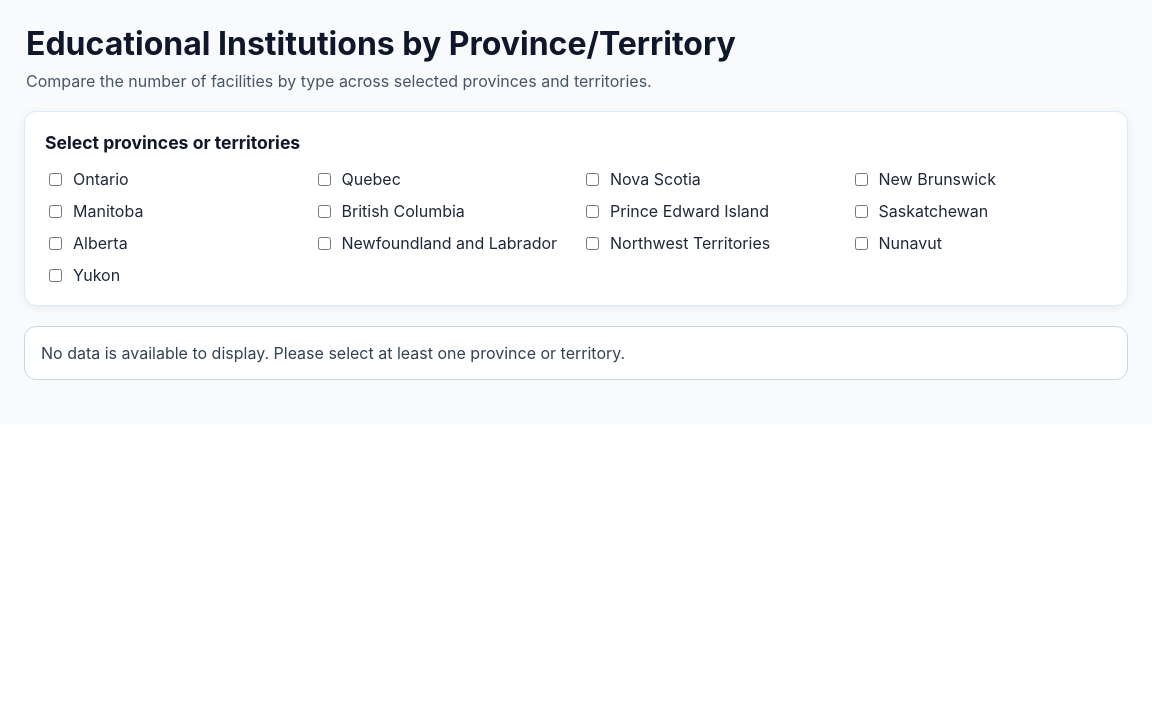
Test case: AC6: no provinces selected shows a no-data message › no-data message disappears once a province is selected
Expected: the text "No data is available to display" is shown, [41,343,625,363]
Click the checkbox labelled "Ontario" at (56, 179), box [49,172,62,186]
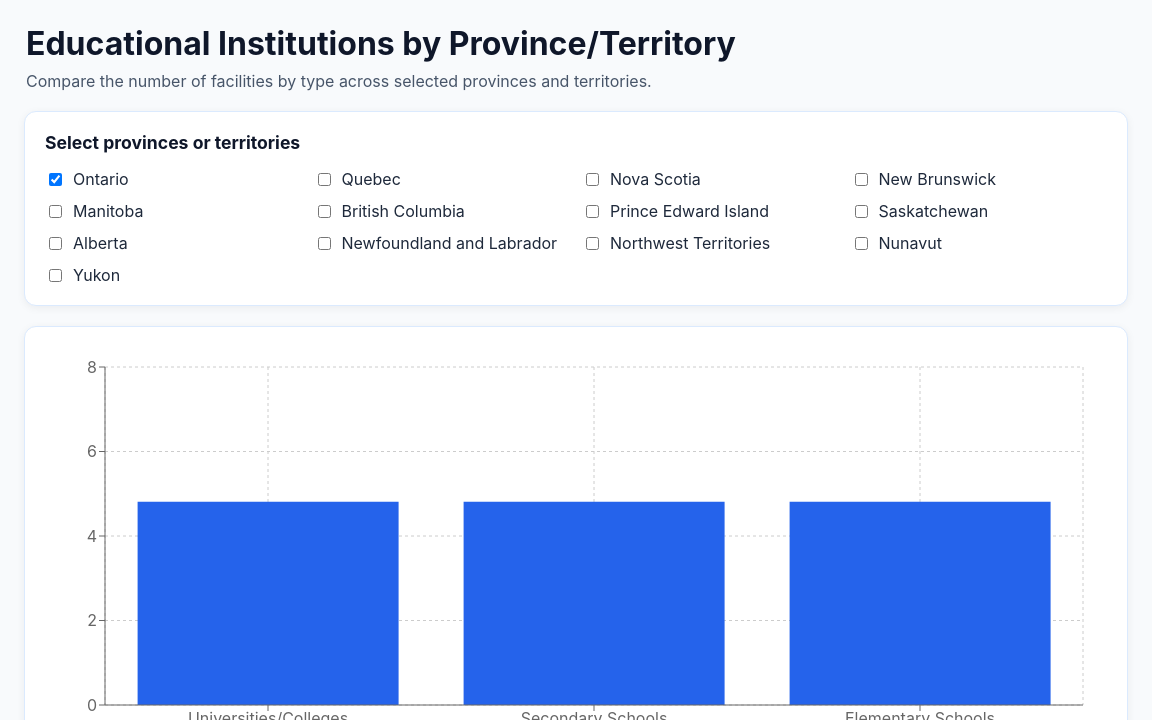
Now the text "No data is available to display" is gone
